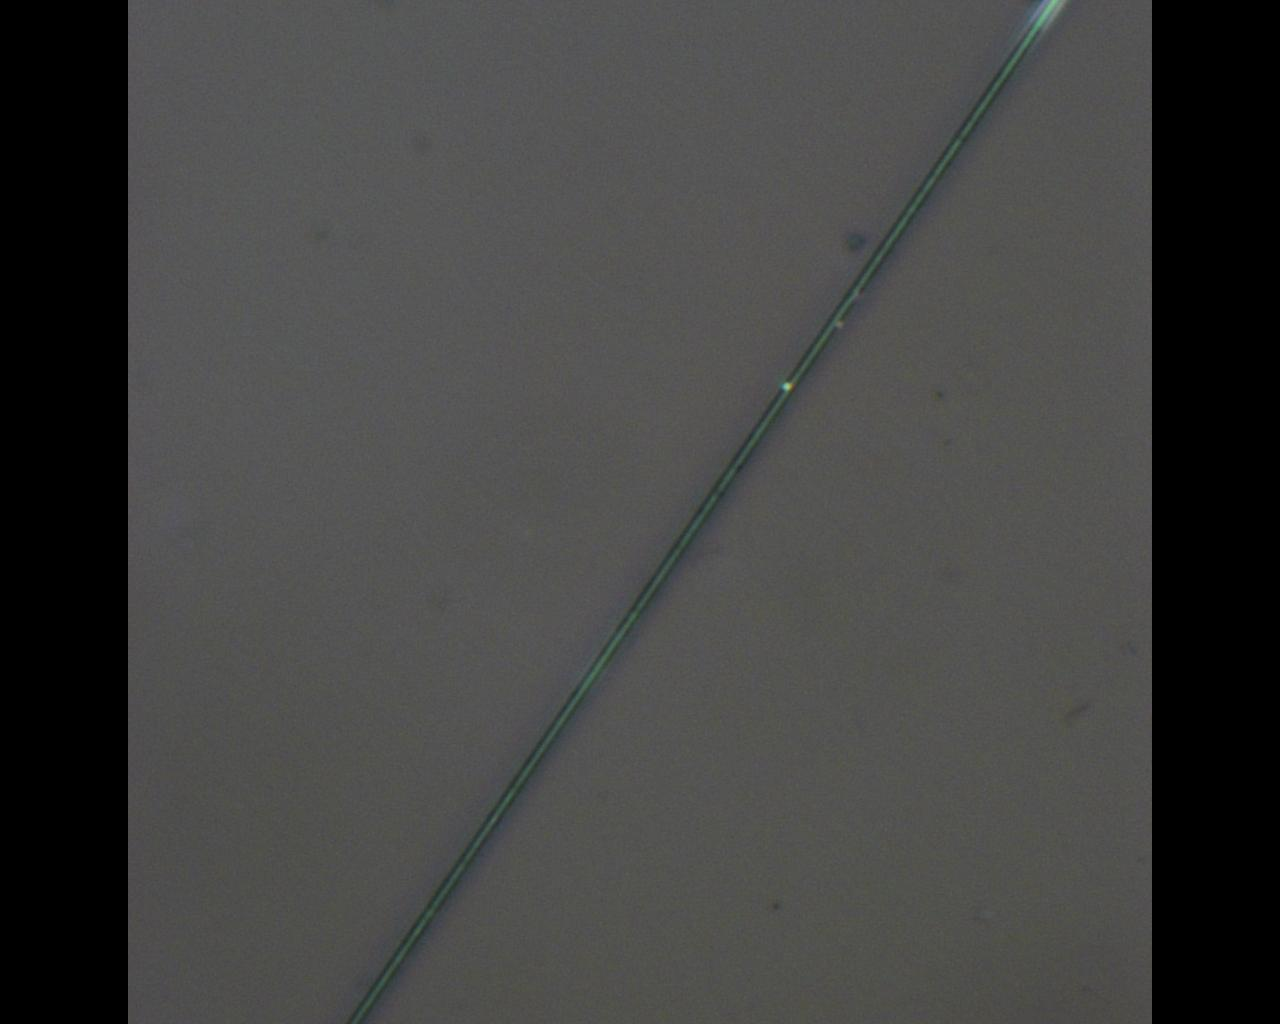fiber: (341, 0, 1066, 1024)
